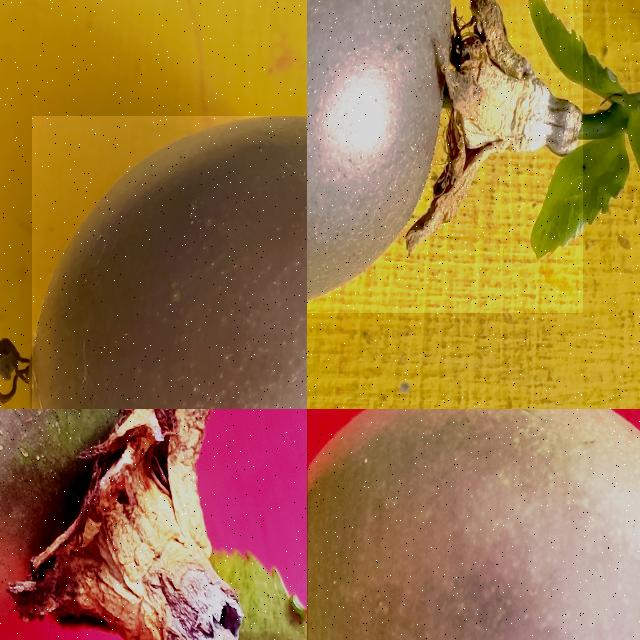Estado-4: (307, 409, 640, 640)
Estado-5: (307, 0, 581, 301), (31, 116, 307, 409)
